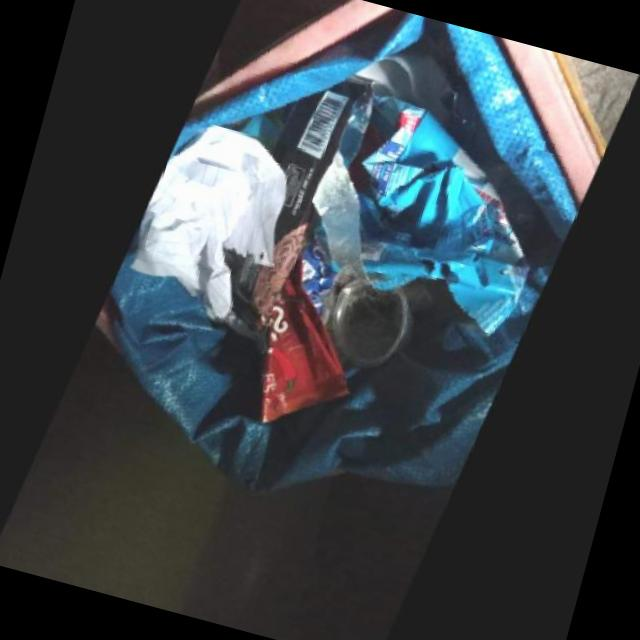bao_bi_thuc_pham: (339, 96, 522, 337), (215, 78, 364, 330)
chai_thuy_tinh: (327, 279, 444, 370)
giay: (124, 124, 278, 321)
